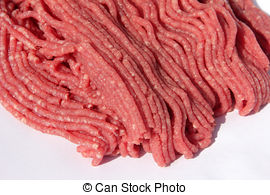ground_beef: (9, 1, 254, 169)
